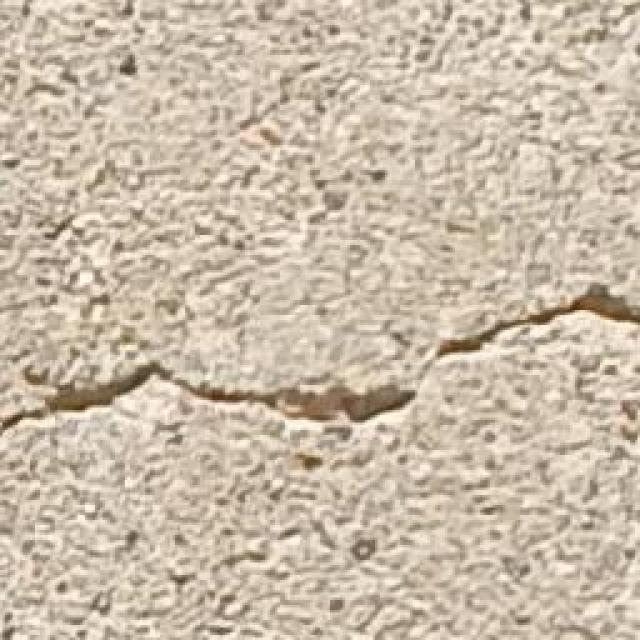concrete-crack: (0, 282, 640, 435)
